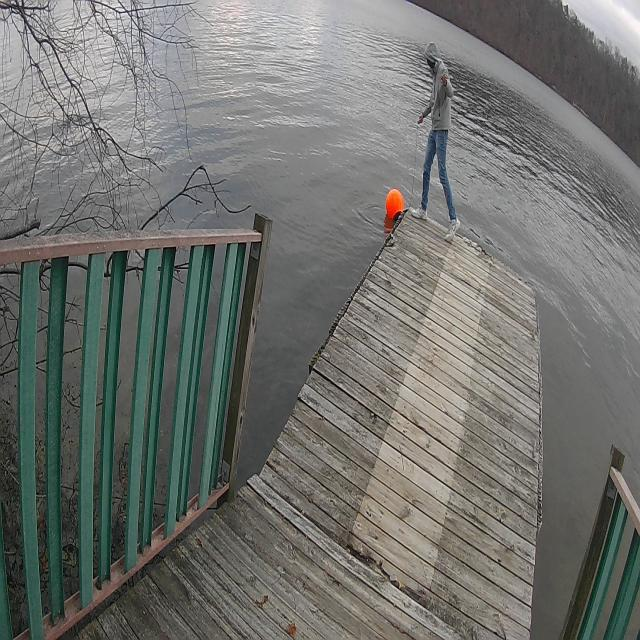Buoy: (380, 184, 408, 232)
